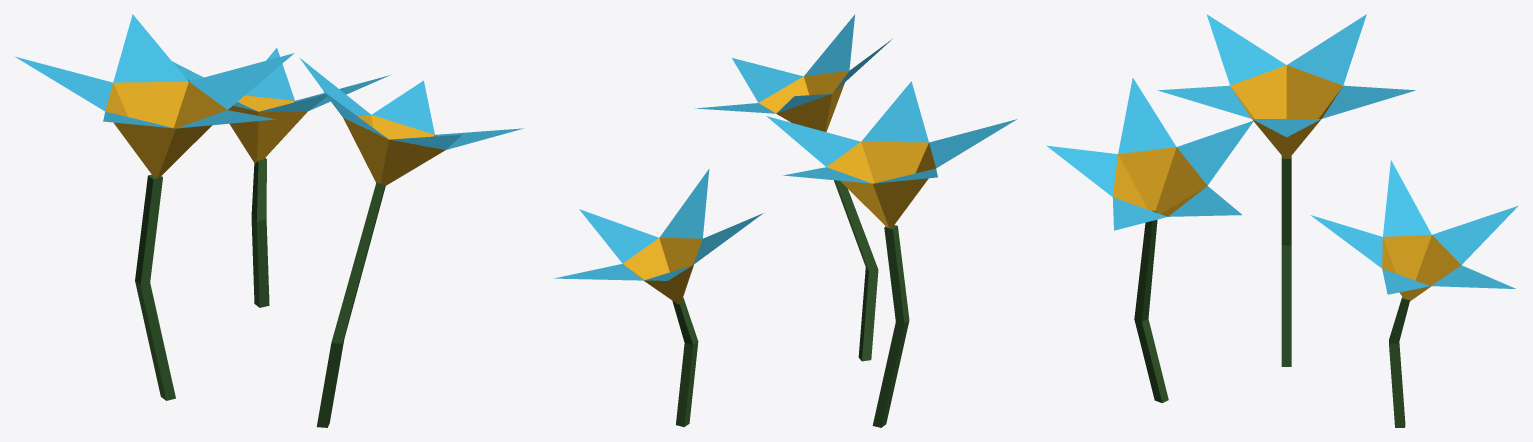
Rendered from enchantedforest_flower_2.fbx.
The picture shows the model from 3 angles, left to right: view 1: azimuth 30°, elevation 25°; view 2: azimuth 150°, elevation 25°; view 3: azimuth 270°, elevation 25°; orthographic projection. The views are drawn at different scales.
Visible parts, largest first — view 1: Icosphere.006; view 2: Icosphere.006; view 3: Icosphere.006.
Part boxes in pixels (x1,y1,x2,y2): Icosphere.006: (15,14,523,427); Icosphere.006: (554,14,1016,427); Icosphere.006: (1046,14,1518,427).
Size of the model in its own units: 0.7212 by 0.6245 by 0.8422.
